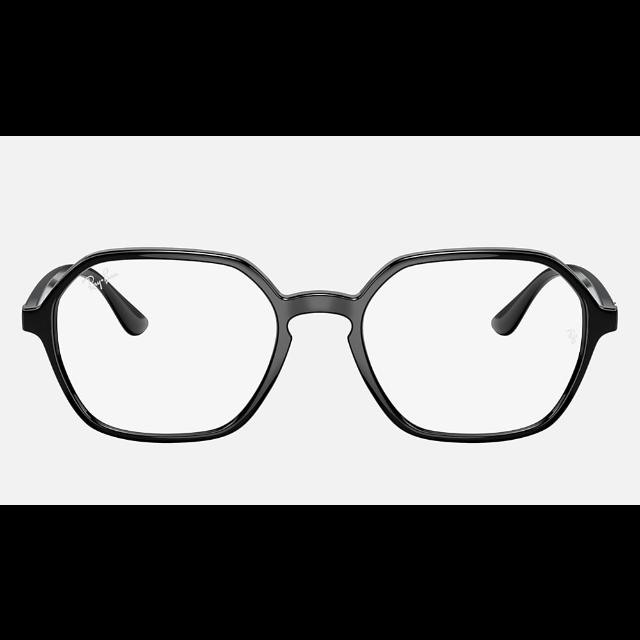glasses: (23, 245, 617, 443)
